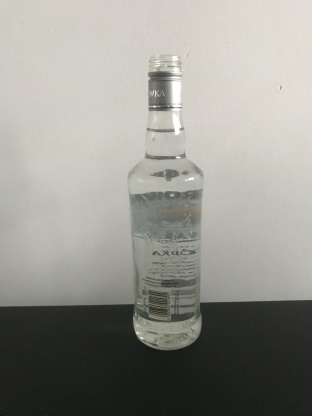nakretka: (146, 52, 184, 112)
